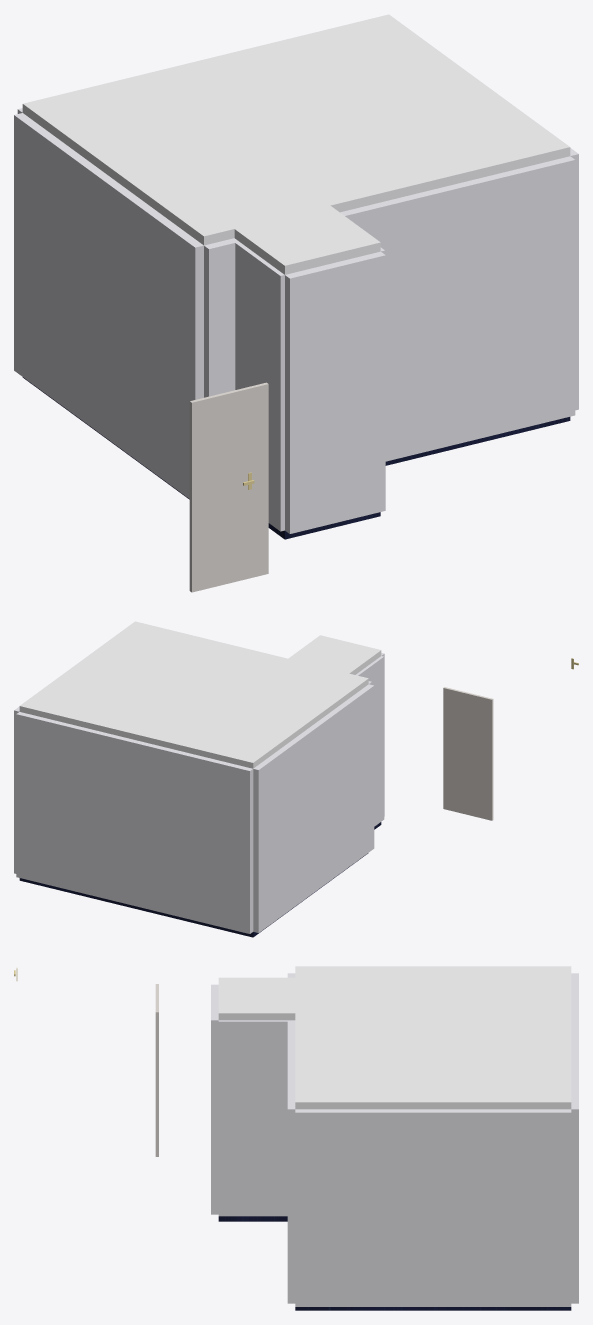
Rendered from group-a-essential.glb.
3 renders of one model, top to bottom at view 1: azimuth 30°, elevation 25°; view 2: azimuth 150°, elevation 25°; view 3: azimuth 270°, elevation 25°, orthographic. The views are drawn at different scales.
Visible parts, largest first — view 1: ceiling_main, wall_front_right, wall_left, wall_hallway_b, door_leaf, wall_hallway_l, ceiling_hallway, wall_front_left, floor_main, wall_right; view 2: wall_rear, ceiling_main, wall_left, door_leaf, ceiling_hallway, wall_hallway_l, floor_main, wall_right; view 3: wall_right, ceiling_main, wall_hallway_r, ceiling_hallway, wall_rear, wall_front_right, wall_hallway_b, floor_main, door_leaf.
Part boxes in pixels (box(x1,y1,x2,y2)): ceiling_main: box(22, 14, 570, 245); wall_front_right: box(340, 156, 575, 461); wall_left: box(14, 113, 203, 498); wall_hallway_b: box(285, 251, 385, 533); door_leaf: box(189, 382, 268, 592); wall_hallway_l: box(230, 238, 284, 531); ceiling_hallway: box(234, 205, 380, 274); wall_front_left: box(204, 238, 237, 397); floor_main: box(22, 377, 570, 499); wall_right: box(570, 148, 578, 410); wall_rear: box(16, 712, 253, 933); ceiling_main: box(19, 621, 368, 768); wall_left: box(253, 684, 374, 932); door_leaf: box(443, 687, 493, 820); ceiling_hallway: box(288, 635, 381, 674); wall_hallway_l: box(356, 656, 384, 826); floor_main: box(19, 853, 368, 937); wall_right: box(14, 706, 19, 873); wall_right: box(295, 1109, 571, 1306); ceiling_main: box(295, 966, 571, 1109); wall_hallway_r: box(218, 1020, 287, 1216); ceiling_hallway: box(218, 977, 295, 1020); wall_rear: box(571, 973, 578, 1303); wall_front_right: box(287, 1020, 295, 1303); wall_hallway_b: box(211, 984, 218, 1214); floor_main: box(295, 1307, 571, 1310); door_leaf: box(155, 984, 158, 1156).
Bounding box in the file's own units: 5.96 × 3 × 7.37.
22 materials, 4 textured.
